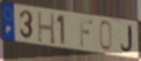0: (98, 19, 115, 53)
1: (56, 14, 66, 47)
3: (18, 10, 34, 41)
F: (78, 18, 94, 48)
H: (36, 10, 56, 46)
J: (120, 25, 134, 54)
